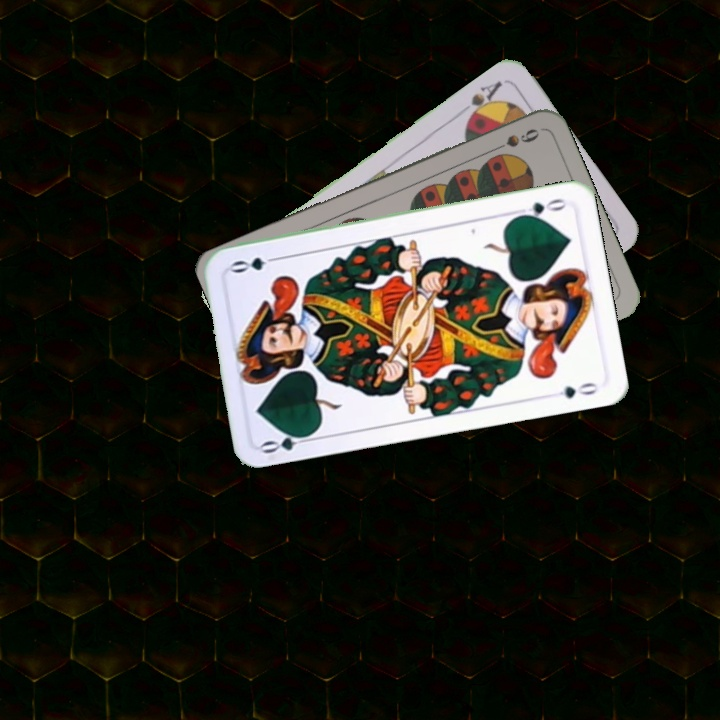GO: (258, 427, 317, 456), (512, 194, 570, 221)
S9: (485, 124, 542, 156)
SA: (455, 76, 505, 125)
